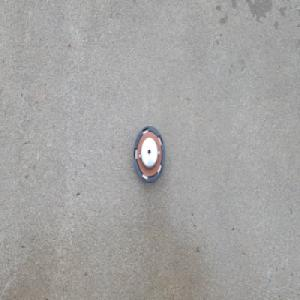FuelCap: (131, 123, 165, 184)
